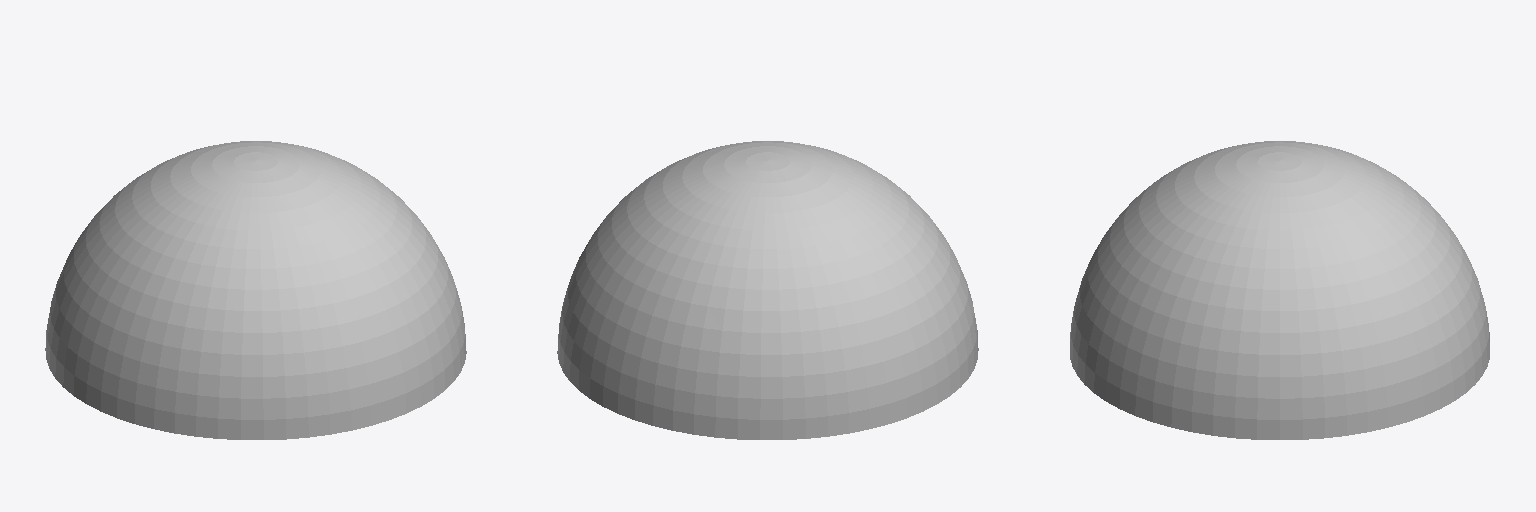
The model's file is HalfSphere.obj.
3 views of the same model, side by side, from view 1: azimuth 30°, elevation 25°; view 2: azimuth 150°, elevation 25°; view 3: azimuth 270°, elevation 25° (orthographic).
Parts seen in each view (by area): view 1: mesh0; view 2: mesh0; view 3: mesh0.
Part boxes in pixels (left/top/right/bottom): mesh0: left=45, top=141, right=466, bottom=439; mesh0: left=557, top=141, right=978, bottom=439; mesh0: left=1070, top=141, right=1489, bottom=439.
Bounding box in the file's own units: 0.042 × 0.021 × 0.0419.